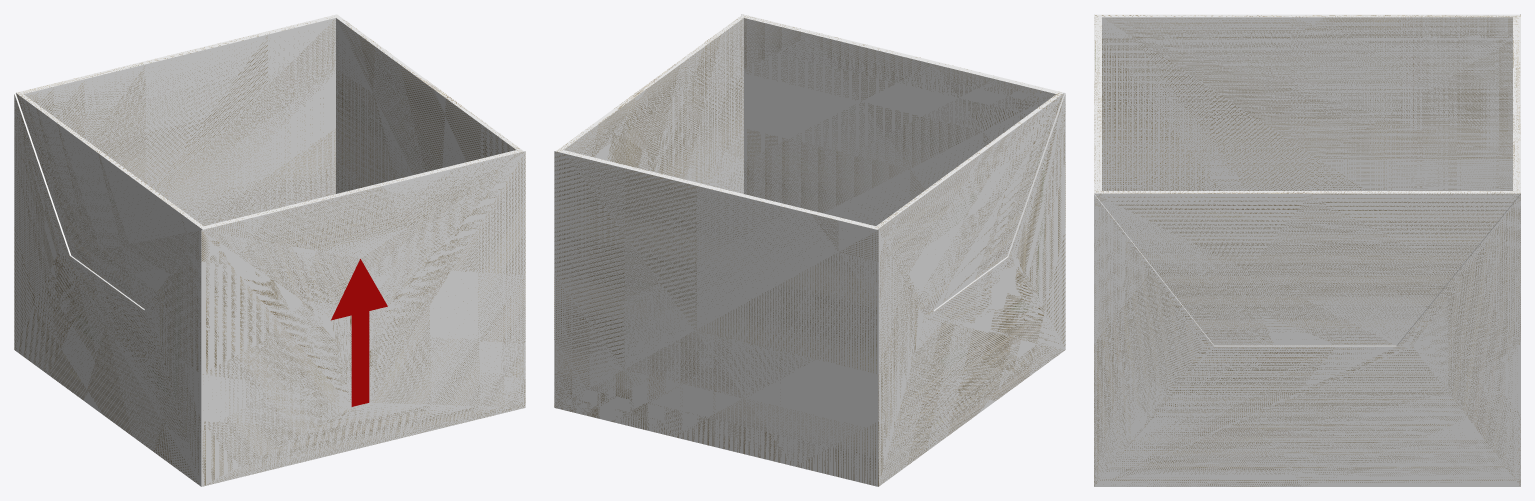
Rendered from link_2_combined_mesh.obj.
3 views of the same model, side by side, from view 1: azimuth 30°, elevation 25°; view 2: azimuth 150°, elevation 25°; view 3: azimuth 270°, elevation 25° (orthographic). The views are drawn at different scales.
Size of the model in its own units: 0.8742 by 0.6614 by 0.8742.
